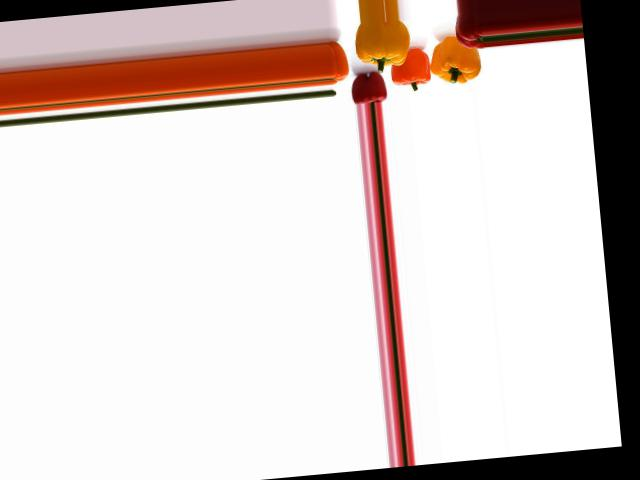bell_pepper: (327, 40, 352, 85)
